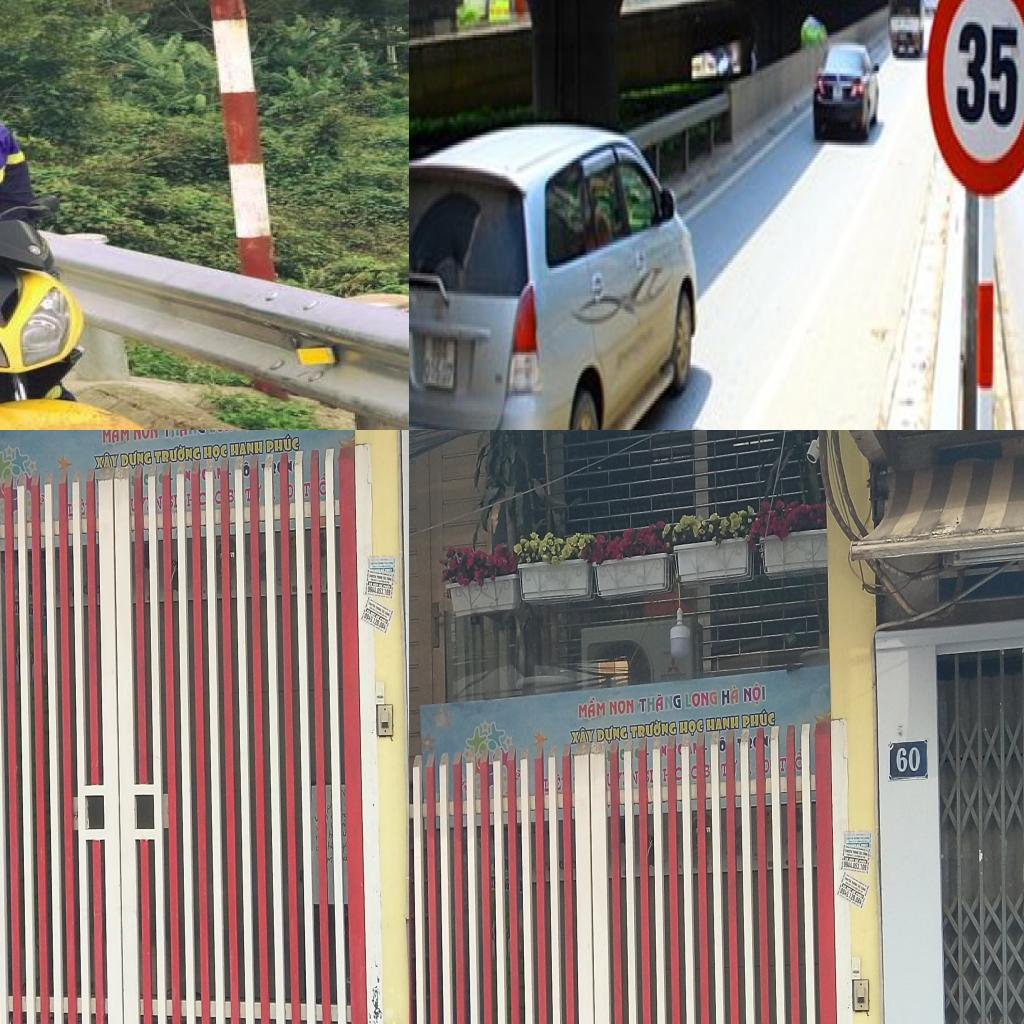text: (956, 20, 1020, 130), (152, 442, 201, 467), (628, 717, 677, 742), (638, 690, 682, 716), (683, 688, 719, 712), (265, 431, 300, 455), (741, 706, 776, 730), (895, 743, 921, 775), (119, 447, 154, 470), (595, 722, 630, 745), (576, 695, 606, 721), (228, 438, 264, 458), (704, 714, 740, 734), (742, 680, 767, 707), (92, 450, 120, 472), (568, 725, 596, 747), (200, 441, 228, 462), (676, 716, 704, 737), (608, 698, 636, 717), (720, 682, 740, 708), (100, 430, 130, 446), (363, 612, 387, 632), (839, 887, 863, 907), (161, 430, 205, 440), (131, 430, 159, 442), (366, 586, 391, 596), (842, 862, 867, 872), (318, 470, 326, 497), (794, 745, 802, 772), (207, 430, 242, 436), (302, 480, 312, 499), (778, 755, 788, 774), (214, 488, 222, 506), (690, 763, 698, 781), (244, 486, 252, 502), (720, 762, 728, 778), (200, 490, 206, 508), (676, 764, 682, 782), (704, 762, 710, 780), (228, 488, 234, 504), (173, 491, 178, 508), (649, 766, 654, 783)
